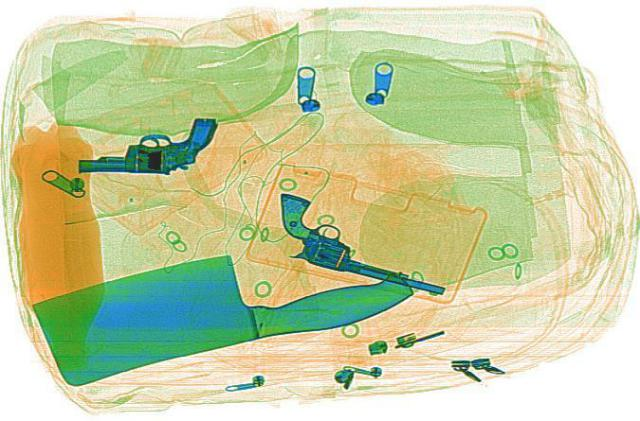Gun: (240, 191, 476, 294), (73, 115, 221, 173)
Knife: (5, 210, 423, 399)
